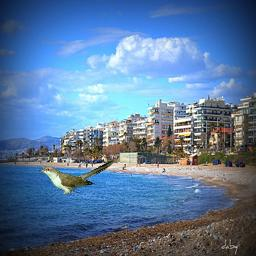Cuckoo: (38, 159, 115, 194)
